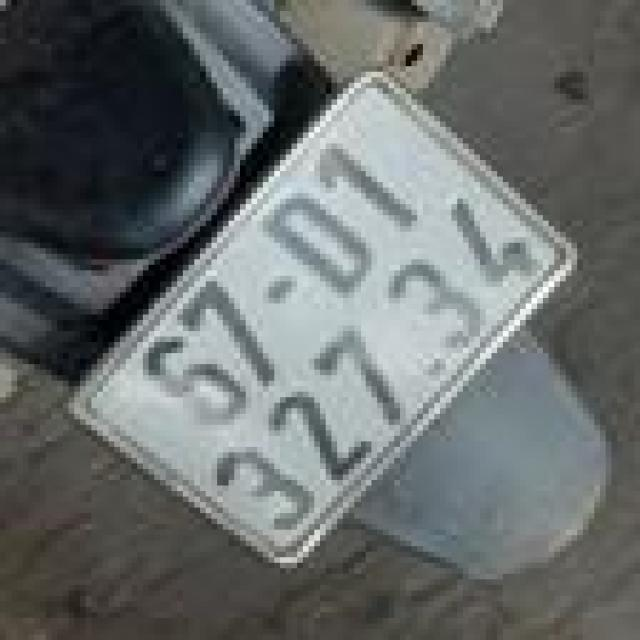1: (292, 121, 438, 252)
2: (252, 371, 387, 500)
3: (193, 423, 334, 546), (370, 241, 503, 371)
4: (429, 173, 556, 303)
6: (124, 322, 261, 447)
7: (296, 311, 423, 447), (166, 265, 290, 399)
D: (244, 178, 385, 314)
